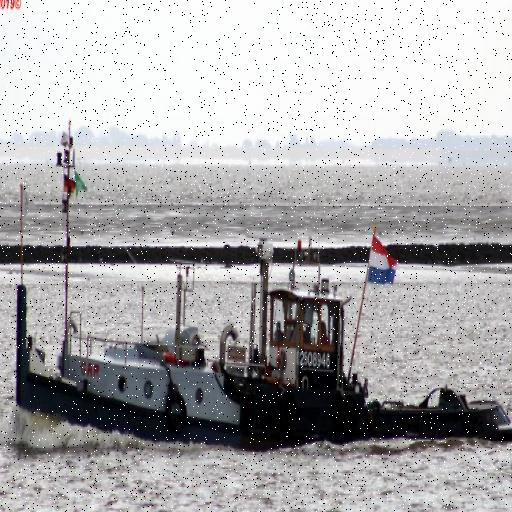tugboat: (14, 177, 512, 472)
